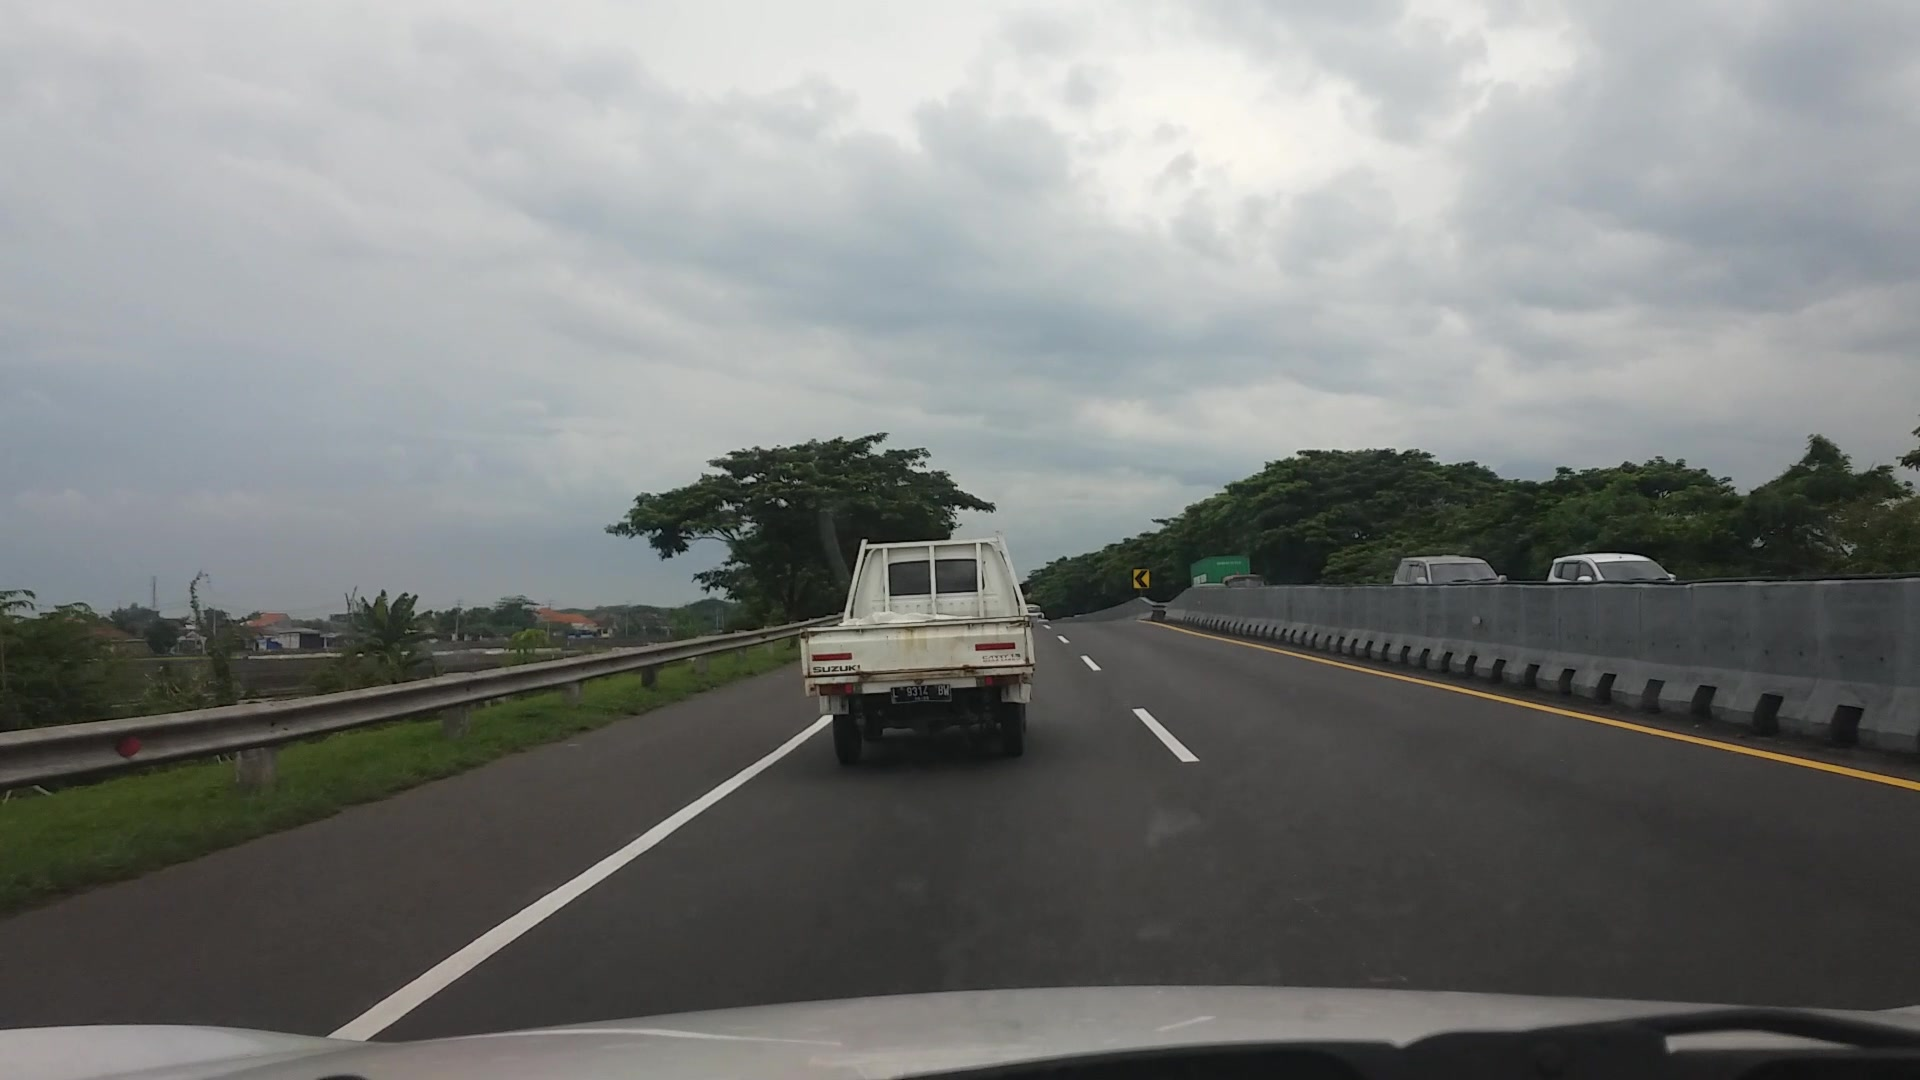plate_positive: (890, 684, 952, 704)
